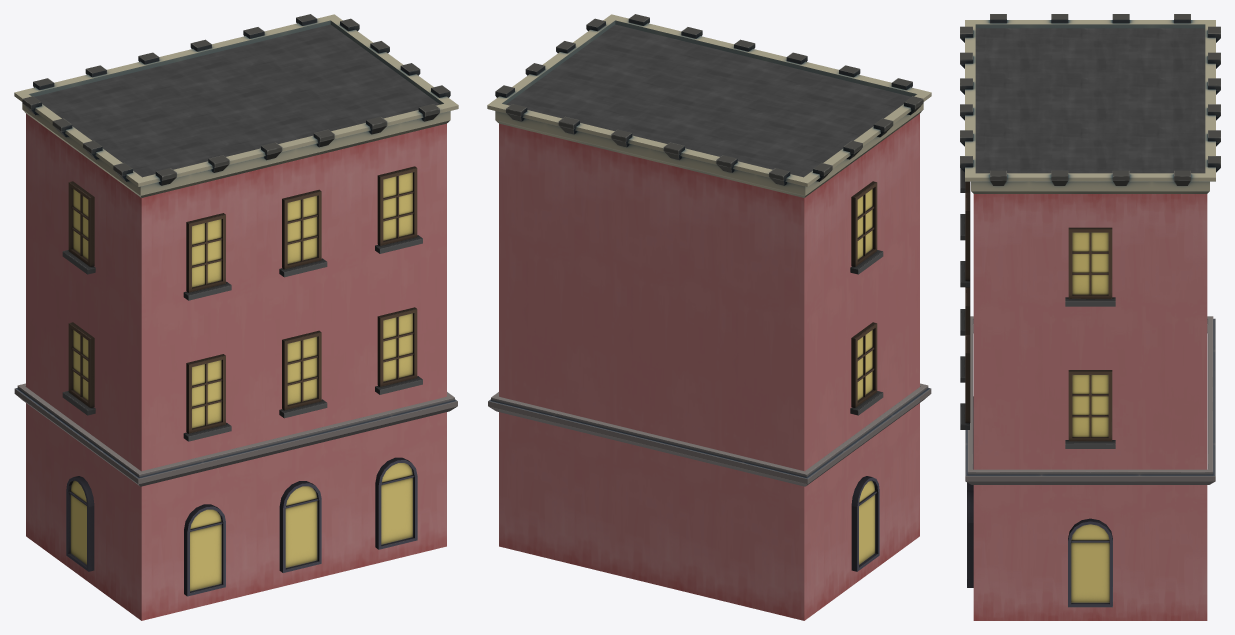
File: NBR_building_c.FBX
The picture shows the model from 3 angles, left to right: view 1: azimuth 30°, elevation 25°; view 2: azimuth 150°, elevation 25°; view 3: azimuth 270°, elevation 25°; orthographic projection.
Parts seen in each view (by area): view 1: building_c; view 2: building_c; view 3: building_c.
Boxes of the visible parts, x1,y1,x2,y2 form: building_c: (14,14,458,620); building_c: (487,14,931,620); building_c: (960,14,1220,620).
Size of the model in its own units: 938 by 1217 by 638.
Materials: 4 (4 with a texture image).
